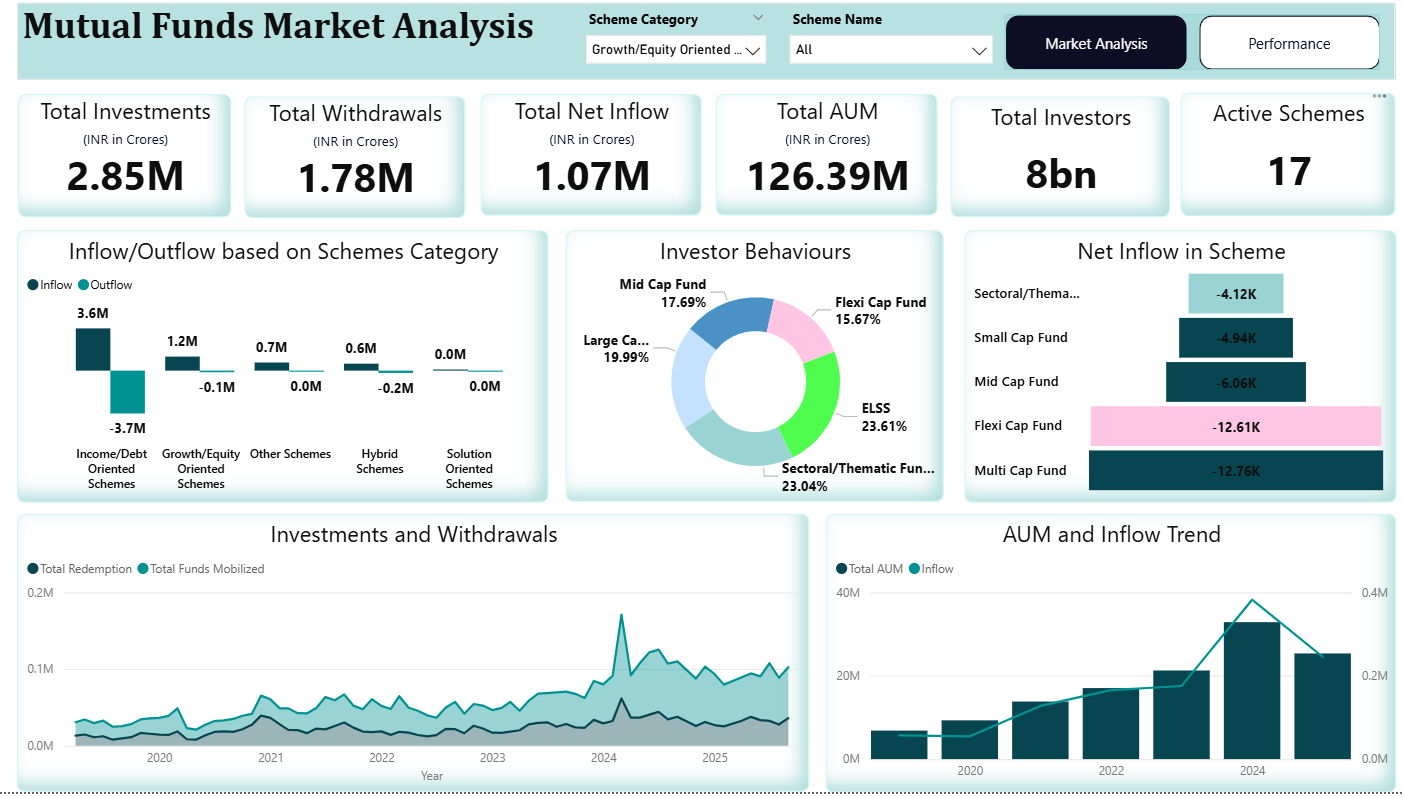

The dashboard page shown, as its layout file describes it:
{"tool":"powerbi","page":{"name":"Market Analysis","canvas":[1280,720],"ordinal":0},"visuals":[{"type":"textbox","title":"Mutual Funds Market Analysis ","box":[17.8,8.2,1243.2,70],"z":0},{"type":"card","title":"Total Investments","fields":{"Values":["Mutual Funds(2019-2025).Total Funds Mobilized"]},"box":[19.2,90.6,192.1,111.1],"z":1000},{"type":"card","title":"Total Withdrawals","fields":{"Values":["Mutual Funds(2019-2025).Total Redemption"]},"box":[223.7,91.9,199,109.8],"z":2000},{"type":"card","title":"Total Net Inflow","fields":{"Values":["Mutual Funds(2019-2025).Total Net Inflow/Outflow"]},"box":[436.4,90.6,199,109.8],"z":3000},{"type":"card","title":"Total AUM","fields":{"Values":["Mutual Funds(2019-2025).Total AUM"]},"box":[647.7,90.6,200.3,109.8],"z":4000},{"type":"card","title":"Total Investors","fields":{"Values":["Mutual Funds(2019-2025).Total Folios"]},"box":[860.4,91.9,197.6,108.4],"z":5000},{"type":"card","title":"Active Schemes","fields":{"Values":["Mutual Funds(2019-2025).Actve Schemes"]},"box":[1067.6,89.2,193.5,111.1],"z":6000},{"type":"clusteredColumnChart","title":"Inflow/Outflow based on Schemes Category","fields":{"Category":["Mutual Funds(2019-2025).Scheme Category"],"Y":["Mutual Funds(2019-2025).Inflow","Mutual Funds(2019-2025).Outflow"]},"box":[17.6,213.2,479.4,245.6],"z":7000},{"type":"donutChart","title":"Investor Behaviours","fields":{"Y":["Mutual Funds(2019-2025).Total Folios"],"Category":["Mutual Funds(2019-2025).Scheme Name"]},"box":[512.7,212.7,340.8,245.1],"z":8000},{"type":"stackedAreaChart","title":"Investments and Withdrawals","fields":{"Y":["Mutual Funds(2019-2025).Total Redemption","Mutual Funds(2019-2025).Total Funds Mobilized"],"Category":["Custom Calendar.Date.Variation.Date Hierarchy.Year","Custom Calendar.Date.Variation.Date Hierarchy.Quarter","Custom Calendar.Date.Variation.Date Hierarchy.Month","Custom Calendar.Date.Variation.Date Hierarchy.Day"]},"box":[17.6,469.1,714.7,250],"z":9000},{"type":"funnel","title":"Net Inflow in Scheme ","fields":{"Category":["Mutual Funds(2019-2025).Scheme Name"],"Y":["Mutual Funds(2019-2025).Outflow"]},"box":[872.1,213.2,389.7,245.6],"z":10000},{"type":"slicer","fields":{"Values":["Mutual Funds(2019-2025).Scheme Category"]},"box":[520.8,9.1,183.1,70.1],"z":11000},{"type":"slicer","fields":{"Values":["Mutual Funds(2019-2025).Scheme Name"]},"box":[703.9,9.1,203.9,79.2],"z":12000},{"type":"pageNavigator","box":[908.5,18.3,338,50.7],"z":13000},{"type":"lineStackedColumnComboChart","title":"AUM and Inflow Trend","fields":{"Category":["Custom Calendar.Date.Variation.Date Hierarchy.Year"],"Y":["Mutual Funds(2019-2025).Total AUM"],"Y2":["Mutual Funds(2019-2025).Inflow"]},"box":[747.1,469.1,514.7,251.5],"z":14000}]}

Visuals, with their boxes in screenshot pixels (x1, y1, x2, y2), scaled from the page's 1280x720 canvas onto the 1403x797 screenshot:
"Mutual Funds Market Analysis " textbox: bbox=(20, 9, 1382, 87)
"Total Investments" card: bbox=(21, 100, 232, 223)
"Total Withdrawals" card: bbox=(245, 102, 463, 223)
"Total Net Inflow" card: bbox=(478, 100, 696, 222)
"Total AUM" card: bbox=(710, 100, 929, 222)
"Total Investors" card: bbox=(943, 102, 1160, 222)
"Active Schemes" card: bbox=(1170, 99, 1382, 222)
"Inflow/Outflow based on Schemes Category" clusteredColumnChart: bbox=(19, 236, 545, 508)
"Investor Behaviours" donutChart: bbox=(562, 235, 936, 507)
"Investments and Withdrawals" stackedAreaChart: bbox=(19, 519, 803, 796)
"Net Inflow in Scheme " funnel: bbox=(956, 236, 1383, 508)
slicer - Mutual Funds(2019-2025).Scheme Category: bbox=(571, 10, 772, 88)
slicer - Mutual Funds(2019-2025).Scheme Name: bbox=(772, 10, 995, 98)
pageNavigator: bbox=(996, 20, 1366, 76)
"AUM and Inflow Trend" lineStackedColumnComboChart: bbox=(819, 519, 1383, 796)
